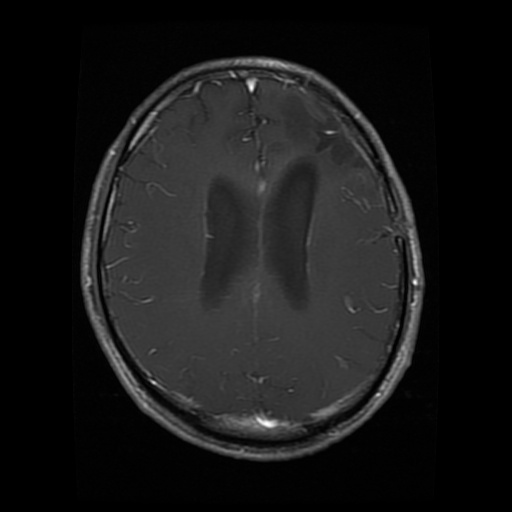glioma: (282, 94, 369, 170)
